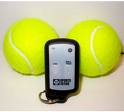tennis ball: (3, 18, 61, 76), (65, 19, 122, 78)
